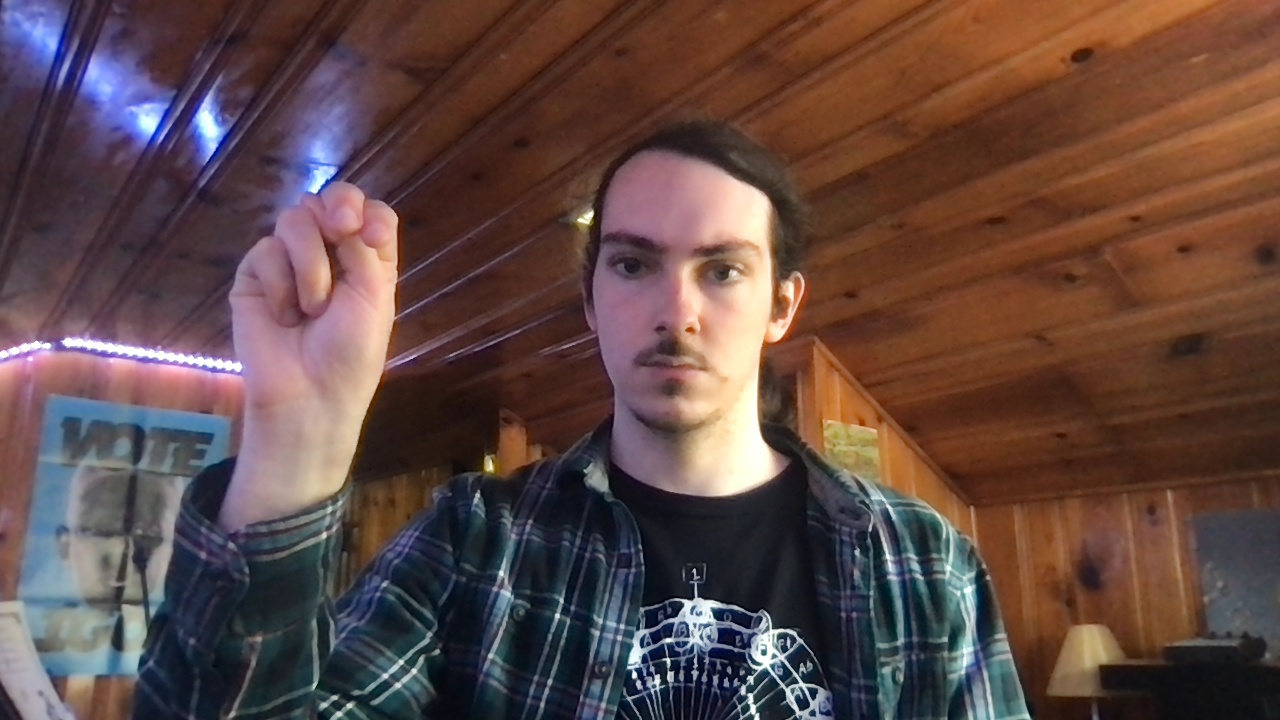n: (227, 180, 402, 406)
